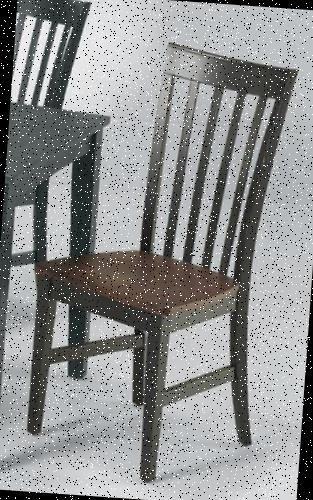Silla: (20, 36, 293, 495)
